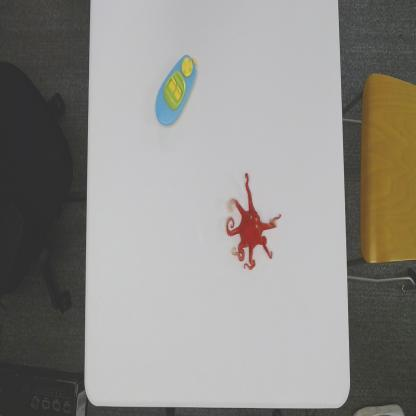Boat: (154, 53, 199, 128)
Octopus: (225, 171, 282, 272)
